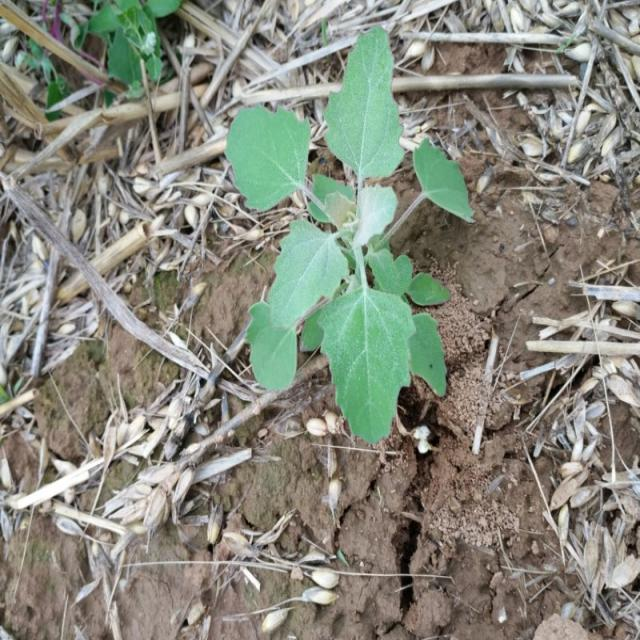goosefoots: (223, 59, 494, 465)
